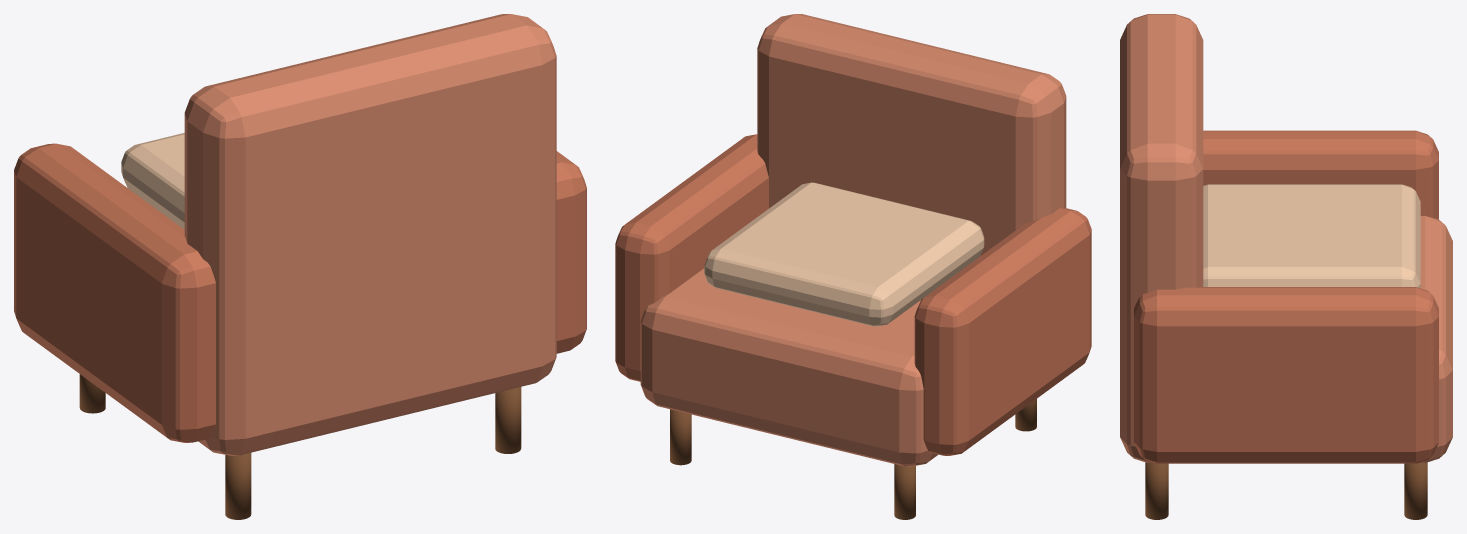
File: armchair.glb
3 views of the same model, side by side, from view 1: azimuth 30°, elevation 25°; view 2: azimuth 150°, elevation 25°; view 3: azimuth 270°, elevation 25° (orthographic). The views are drawn at different scales.
Visible parts, largest first — view 1: back, arm, seat, arm.001, cushion, leg.001, leg.003, leg; view 2: back, seat, arm, cushion, arm.001, leg, leg.002, leg.001; view 3: arm.001, back, cushion, arm, seat, leg.002, leg.003.
Boxes of the visible parts, x1,y1,x2,y2 form: back: (184, 14, 556, 364); arm: (14, 143, 215, 442); seat: (198, 282, 556, 455); arm.001: (556, 151, 586, 353); cushion: (121, 133, 184, 229); leg.001: (225, 453, 251, 519); leg.003: (495, 387, 521, 453); leg: (79, 374, 105, 413); back: (757, 14, 1066, 256); seat: (640, 268, 937, 466); arm: (914, 208, 1091, 455); cushion: (704, 182, 984, 326); arm.001: (615, 134, 768, 381); leg: (894, 464, 915, 519); leg.002: (670, 409, 691, 465); leg.001: (1015, 399, 1036, 431); arm.001: (1134, 287, 1438, 463); back: (1120, 14, 1203, 379); cushion: (1203, 184, 1420, 288); arm: (1203, 130, 1438, 219); seat: (1120, 215, 1452, 462); leg.002: (1404, 462, 1427, 519); leg.003: (1145, 462, 1168, 519).
Size of the model in its own units: 0.94 by 0.9 by 0.72.
